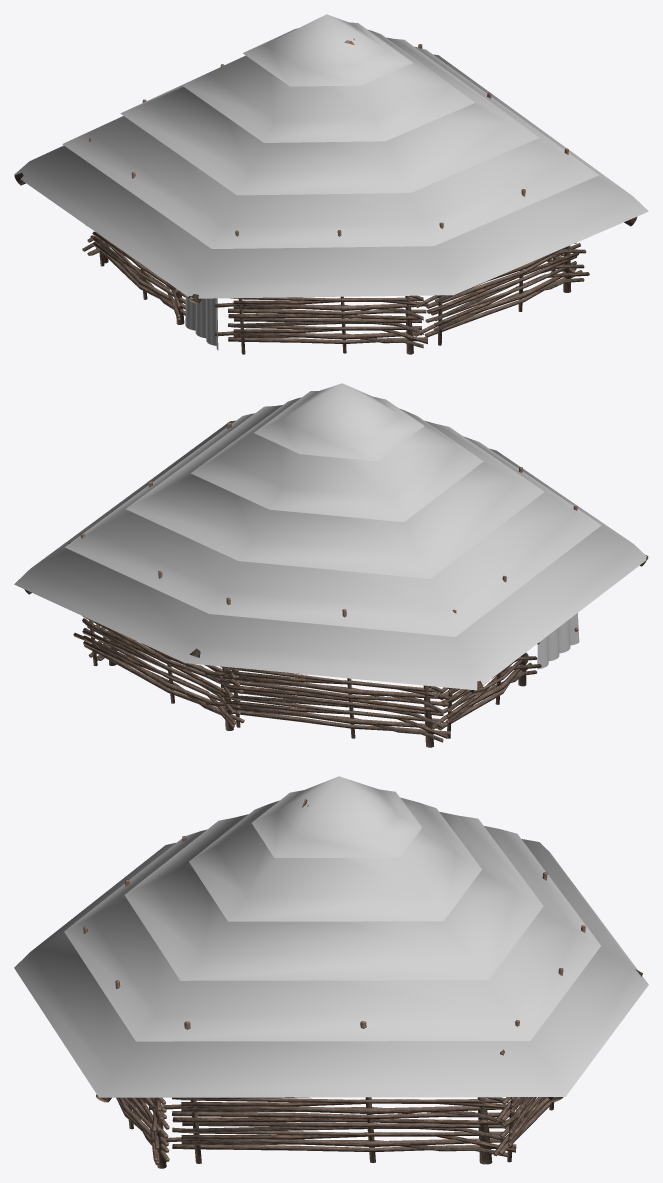
File: hut4.fbx
3 views of the same model, one above another, from view 1: azimuth 30°, elevation 25°; view 2: azimuth 150°, elevation 25°; view 3: azimuth 270°, elevation 25° (orthographic). The views are drawn at different scales.
Visible parts, largest first — view 1: Cylinder_000, Cylinder_001, Cylinder_003, Plane; view 2: Cylinder_000, Cylinder_001, Cylinder_003, Plane; view 3: Cylinder_000, Cylinder_001, Cylinder_003.
Part boxes in pixels (x1,y1,x2,y2): Cylinder_000: (14,14,648,298); Cylinder_001: (15,15,645,298); Cylinder_003: (14,38,637,354); Plane: (185,295,218,350); Cylinder_000: (14,383,648,690); Cylinder_001: (15,384,646,689); Cylinder_003: (24,422,648,747); Plane: (537,613,579,669); Cylinder_000: (14,776,648,1097); Cylinder_001: (14,777,647,1097); Cylinder_003: (83,799,642,1168).
Bounding box in the file's own units: 229 × 129 × 248.
